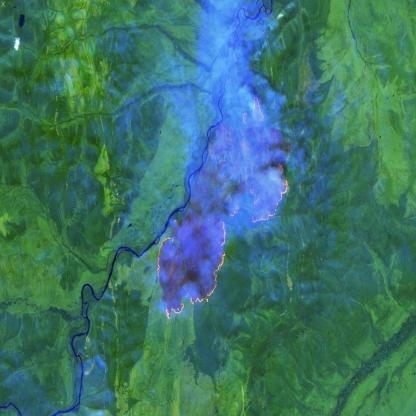fire: (153, 87, 292, 326)
